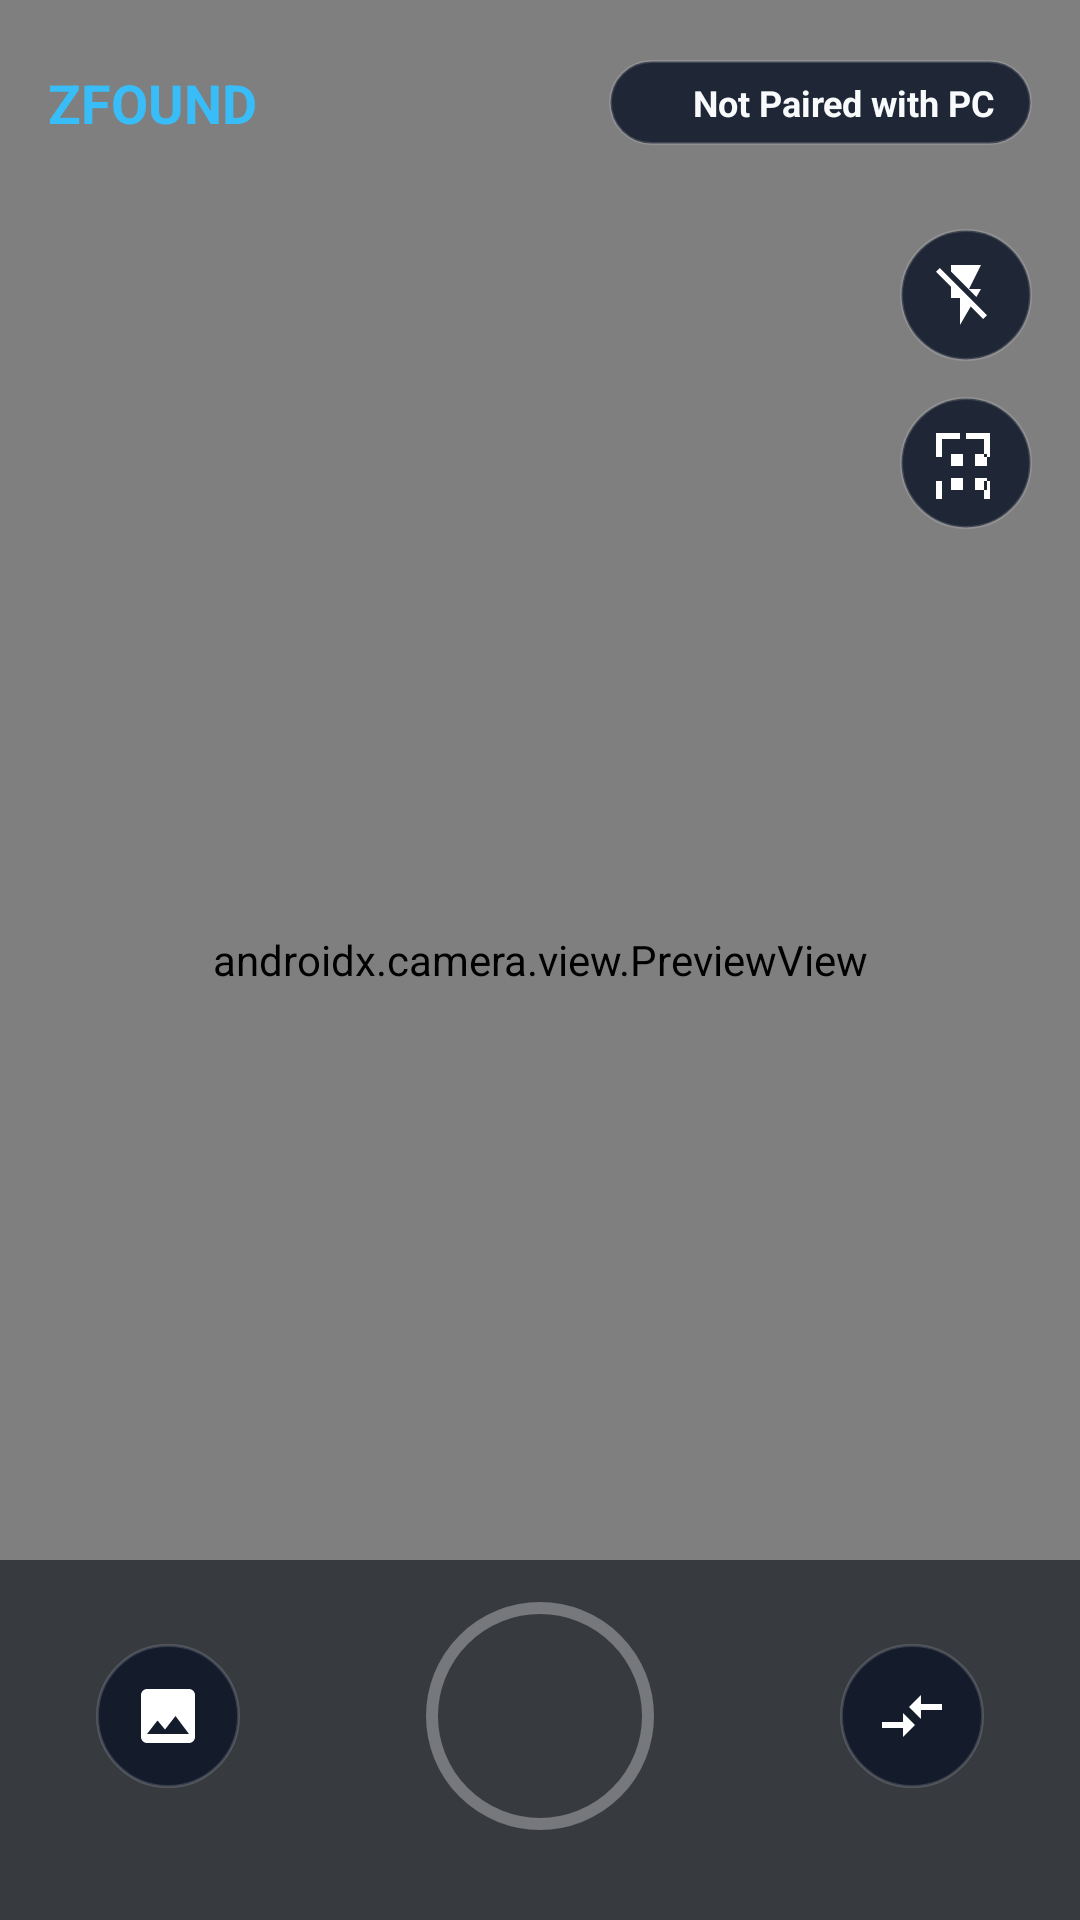

Screen size 1080px×1920px. Icon name, then its box in pixels as (x1, y1, x2, y2):
Pick from gallery: (96, 1644, 240, 1788)
Scan QR Code: (902, 399, 1030, 527)
Switch Camera: (840, 1644, 984, 1788)
Toggle Flash: (902, 231, 1030, 359)
